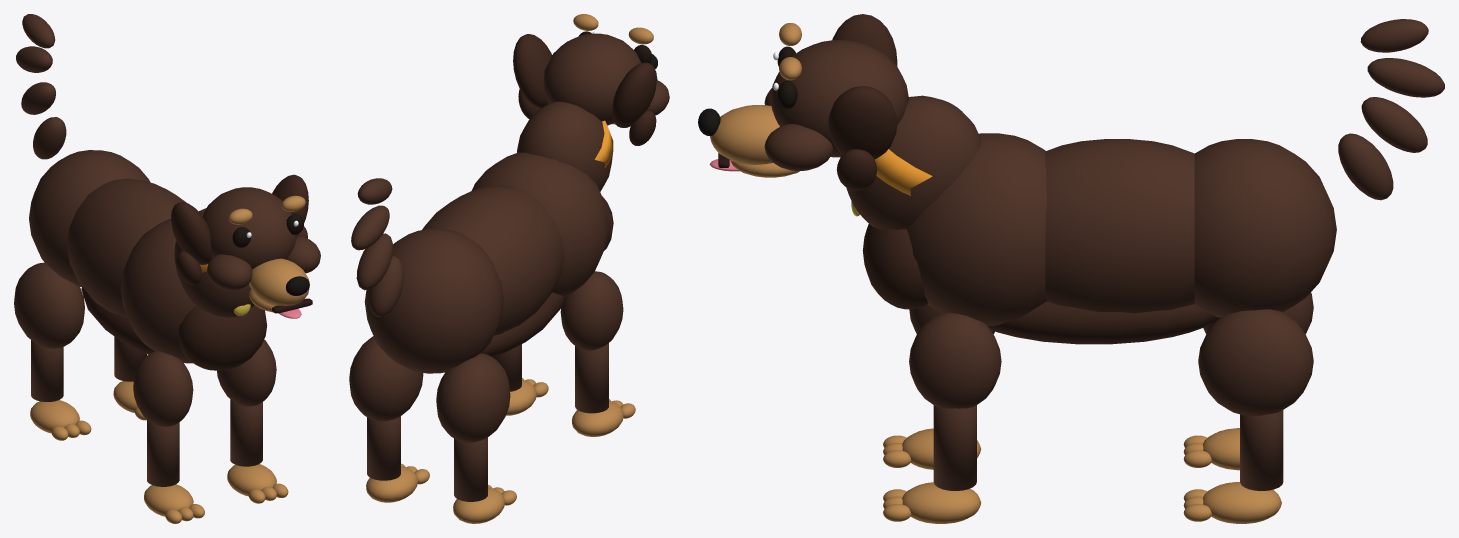
The model's file is dog2.glb.
3 renders of one model, left to right at view 1: azimuth 30°, elevation 25°; view 2: azimuth 150°, elevation 25°; view 3: azimuth 270°, elevation 25°, orthographic. The views are drawn at different scales.
Parts seen in each view (by area): view 1: body_4a2e22, head_4a2e22, legBL_4a2e22, body_3a2218, legFL_4a2e22, legFR_4a2e22, tail_4a2e22, head_3a2218, head_b8844a, legBL_b8844a, legFR_b8844a, legFL_b8844a (+4 smaller); view 2: body_4a2e22, legBL_4a2e22, legBR_4a2e22, head_4a2e22, legFL_4a2e22, head_3a2218, tail_4a2e22, body_3a2218, legFL_b8844a, legBL_b8844a, legBR_b8844a, legFR_b8844a (+3 smaller); view 3: body_4a2e22, legBR_4a2e22, legFR_4a2e22, body_3a2218, head_4a2e22, tail_4a2e22, head_3a2218, head_b8844a, legBR_b8844a, legFR_b8844a, legBL_b8844a, legFL_b8844a (+1 smaller).
Part boxes in pixels (x1,y1,x2,y2): body_4a2e22: (29, 150, 254, 363); head_4a2e22: (202, 187, 320, 290); legBL_4a2e22: (14, 262, 84, 401); body_3a2218: (81, 286, 267, 370); legFL_4a2e22: (133, 351, 193, 486); legFR_4a2e22: (217, 339, 276, 466); tail_4a2e22: (16, 14, 66, 159); head_3a2218: (171, 174, 308, 285); head_b8844a: (228, 195, 309, 312); legBL_b8844a: (30, 400, 91, 440); legFR_b8844a: (227, 464, 288, 503); legFL_b8844a: (144, 484, 204, 523); body_4a2e22: (364, 101, 612, 373); legBL_4a2e22: (436, 353, 510, 501); legBR_4a2e22: (349, 336, 423, 480); head_4a2e22: (543, 33, 669, 125); legFL_4a2e22: (560, 271, 623, 413); head_3a2218: (513, 34, 656, 145); tail_4a2e22: (351, 178, 403, 317); body_3a2218: (482, 196, 613, 357); legFL_b8844a: (572, 399, 635, 436); legBL_b8844a: (453, 485, 516, 523); legBR_b8844a: (366, 463, 429, 502); legFR_b8844a: (506, 378, 548, 415); body_4a2e22: (846, 95, 1336, 325); legBR_4a2e22: (1198, 309, 1313, 490); legFR_4a2e22: (909, 312, 1001, 490); body_3a2218: (862, 224, 1219, 344); head_4a2e22: (764, 40, 908, 170); tail_4a2e22: (1338, 19, 1444, 200); head_3a2218: (828, 14, 897, 190); head_b8844a: (710, 23, 801, 177); legBR_b8844a: (1183, 482, 1281, 523); legFR_b8844a: (883, 482, 981, 523); legBL_b8844a: (1183, 428, 1239, 470); legFL_b8844a: (883, 428, 981, 469).
Size of the model in its own units: 0.3677 by 0.9018 by 1.29.
